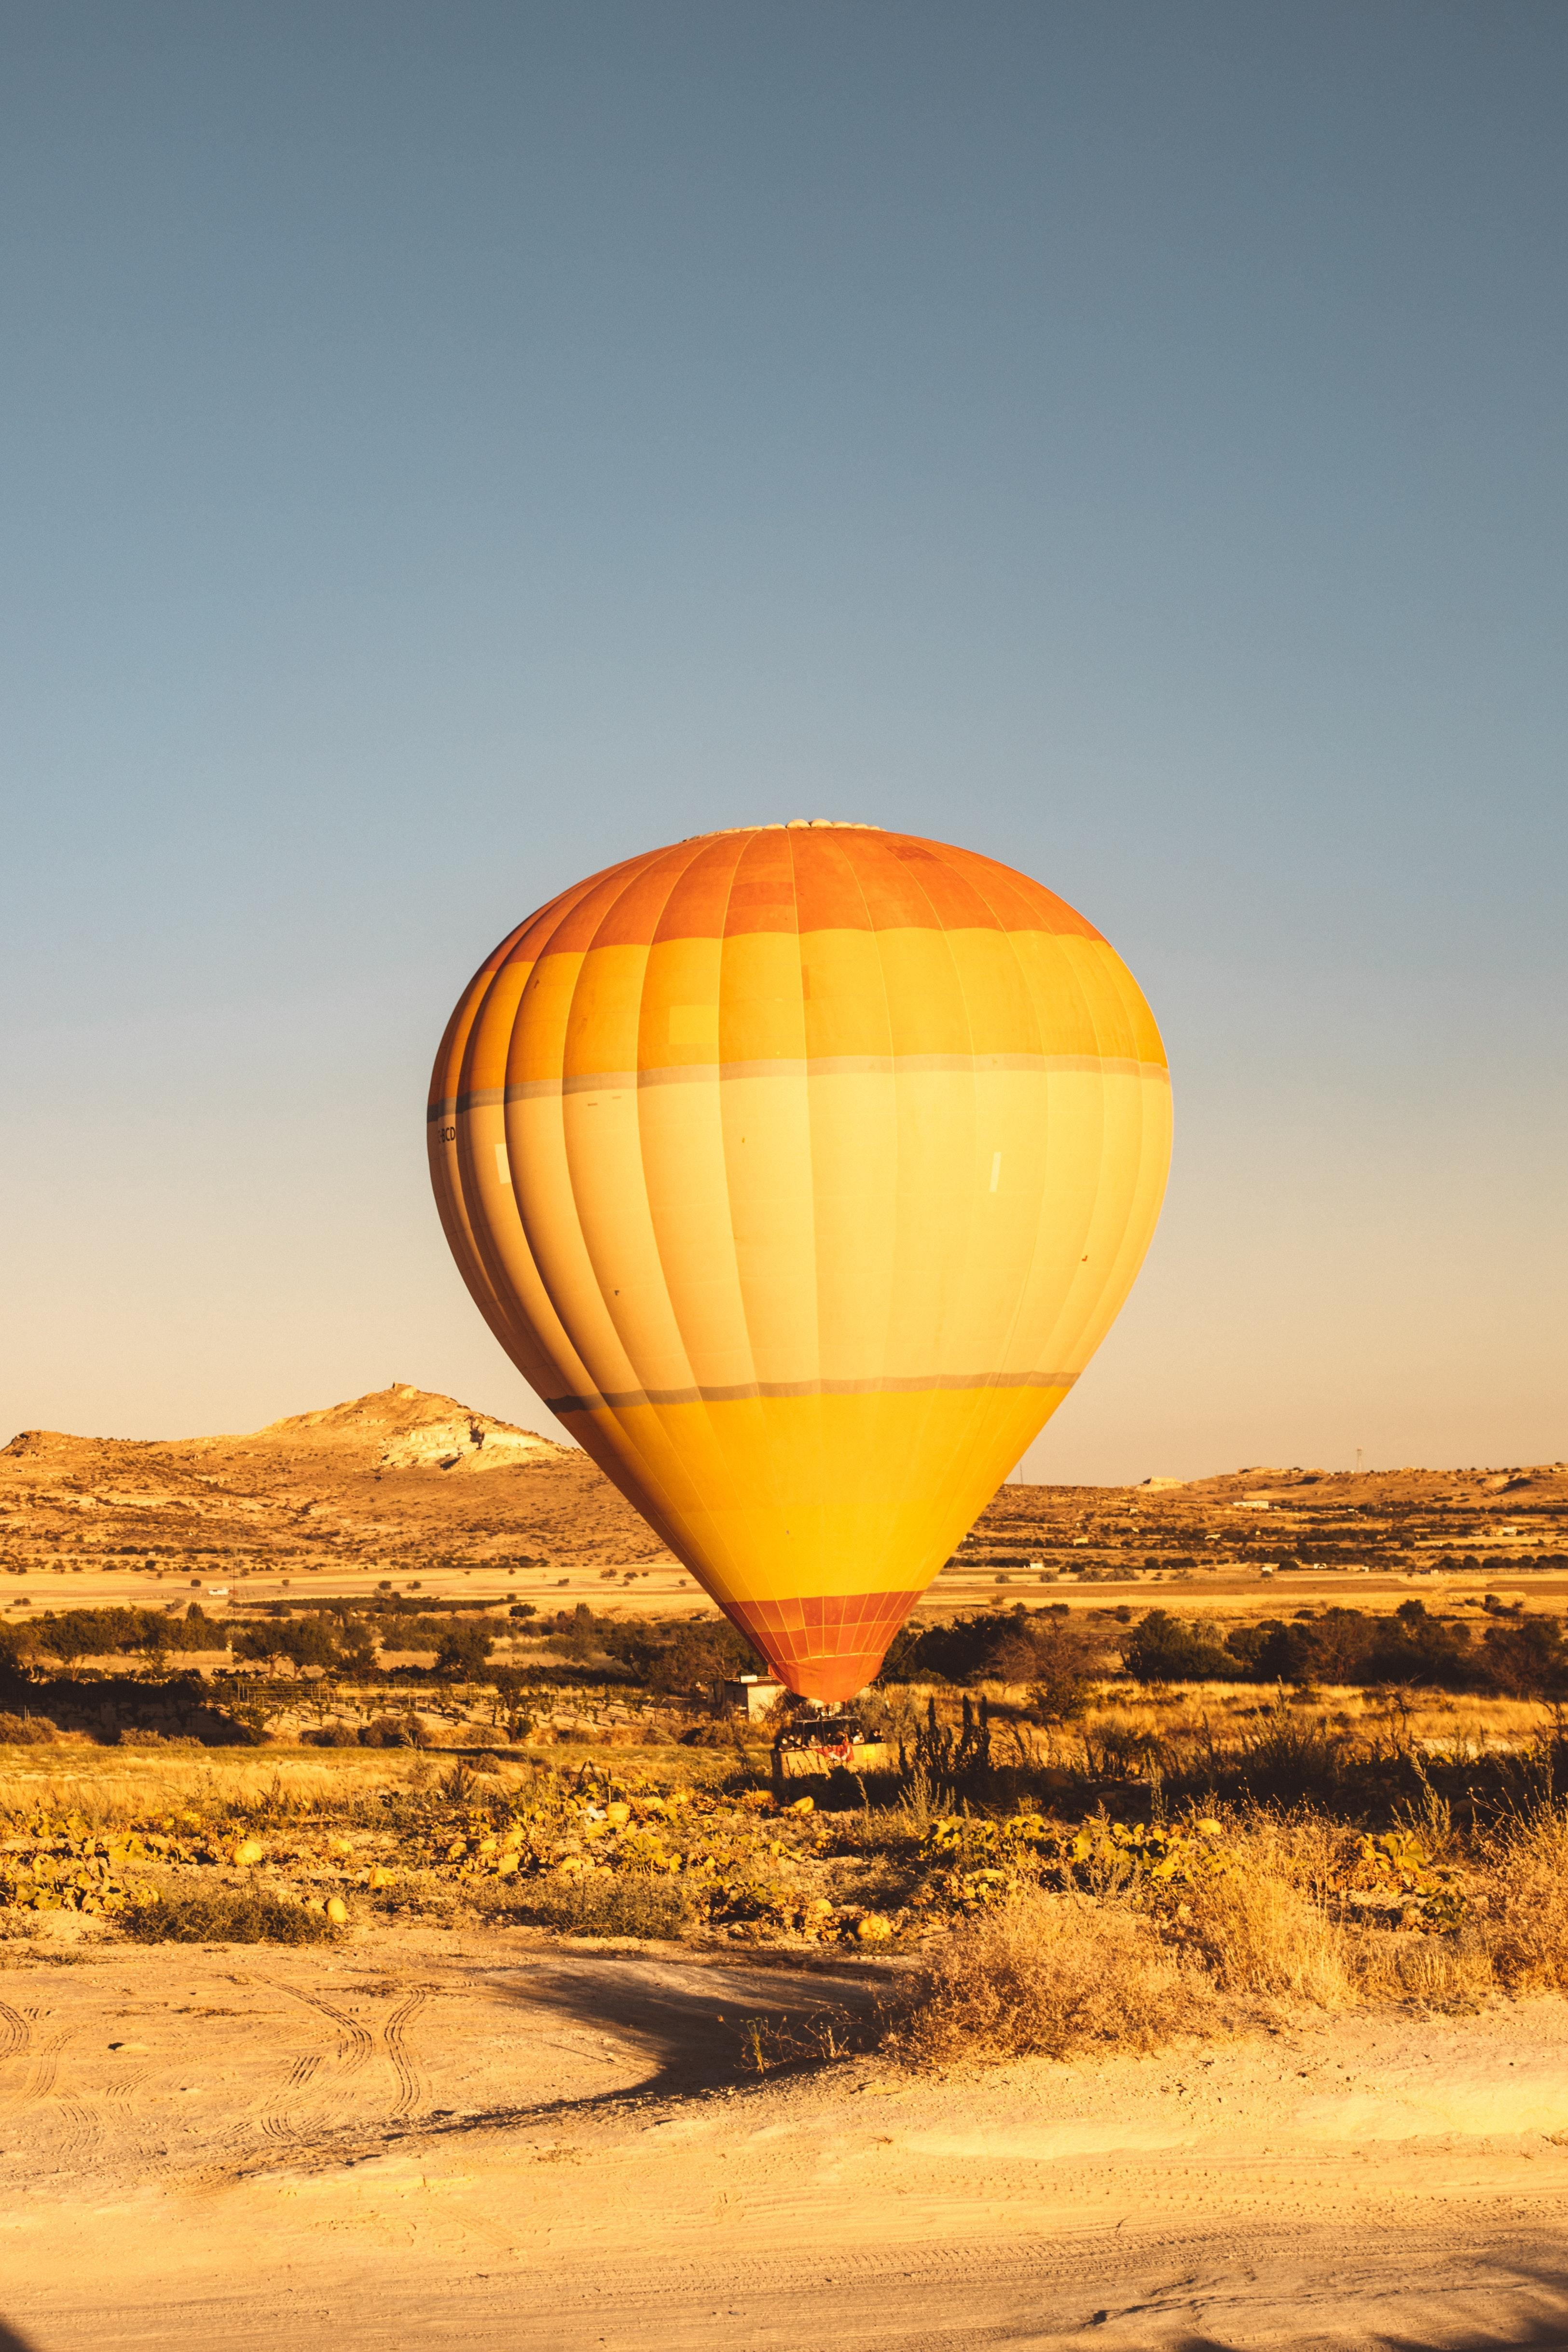hot air ballon: (436, 801, 1188, 1780)
